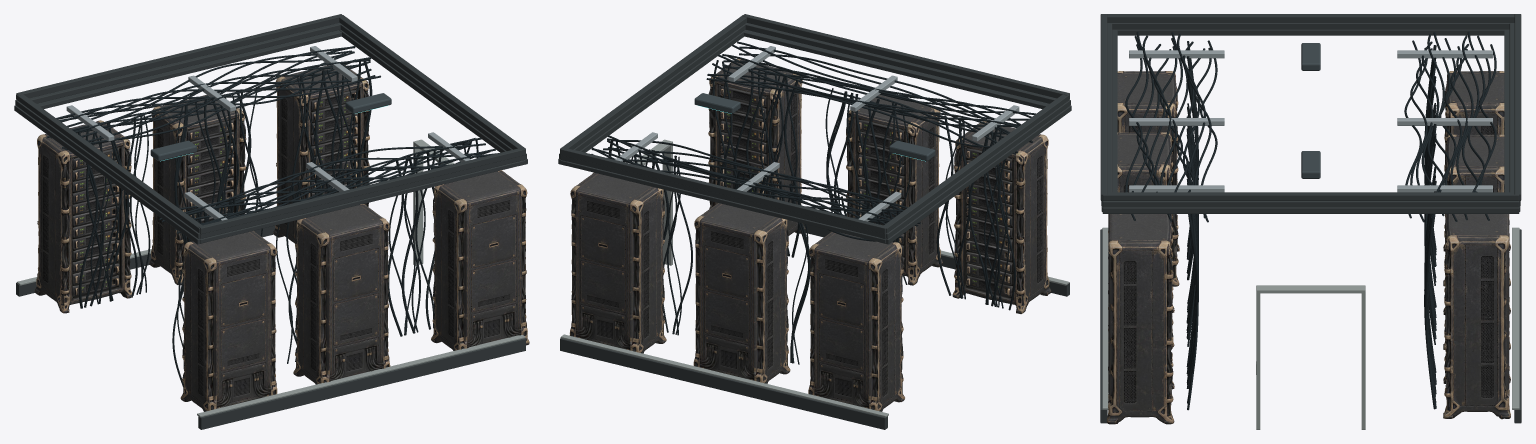
Rendered from SILENT_Room_04_B_Objects.fbx.
The picture shows the model from 3 angles, left to right: view 1: azimuth 30°, elevation 25°; view 2: azimuth 150°, elevation 25°; view 3: azimuth 270°, elevation 25°; orthographic projection. The views are drawn at different scales.
Visible parts, largest first — view 1: Room_04_B_Objects; view 2: Room_04_B_Objects; view 3: Room_04_B_Objects.
Part boxes in pixels (x1=…): Room_04_B_Objects: x1=14, y1=14, x2=529, y2=429; Room_04_B_Objects: x1=558, y1=14, x2=1071, y2=429; Room_04_B_Objects: x1=1100, y1=14, x2=1521, y2=429.
Bounding box in the file's own units: 6.98 × 3.96 × 6.59.
Materials: 13 (6 with a texture image).
